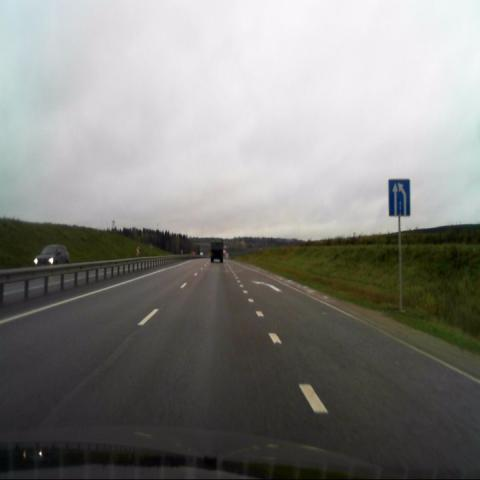5_15_5: (389, 179, 410, 216)
